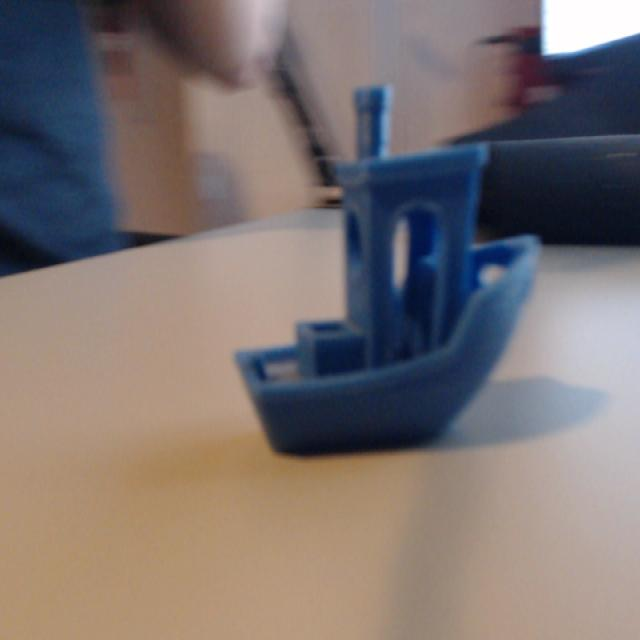benchy: (231, 77, 541, 456)
